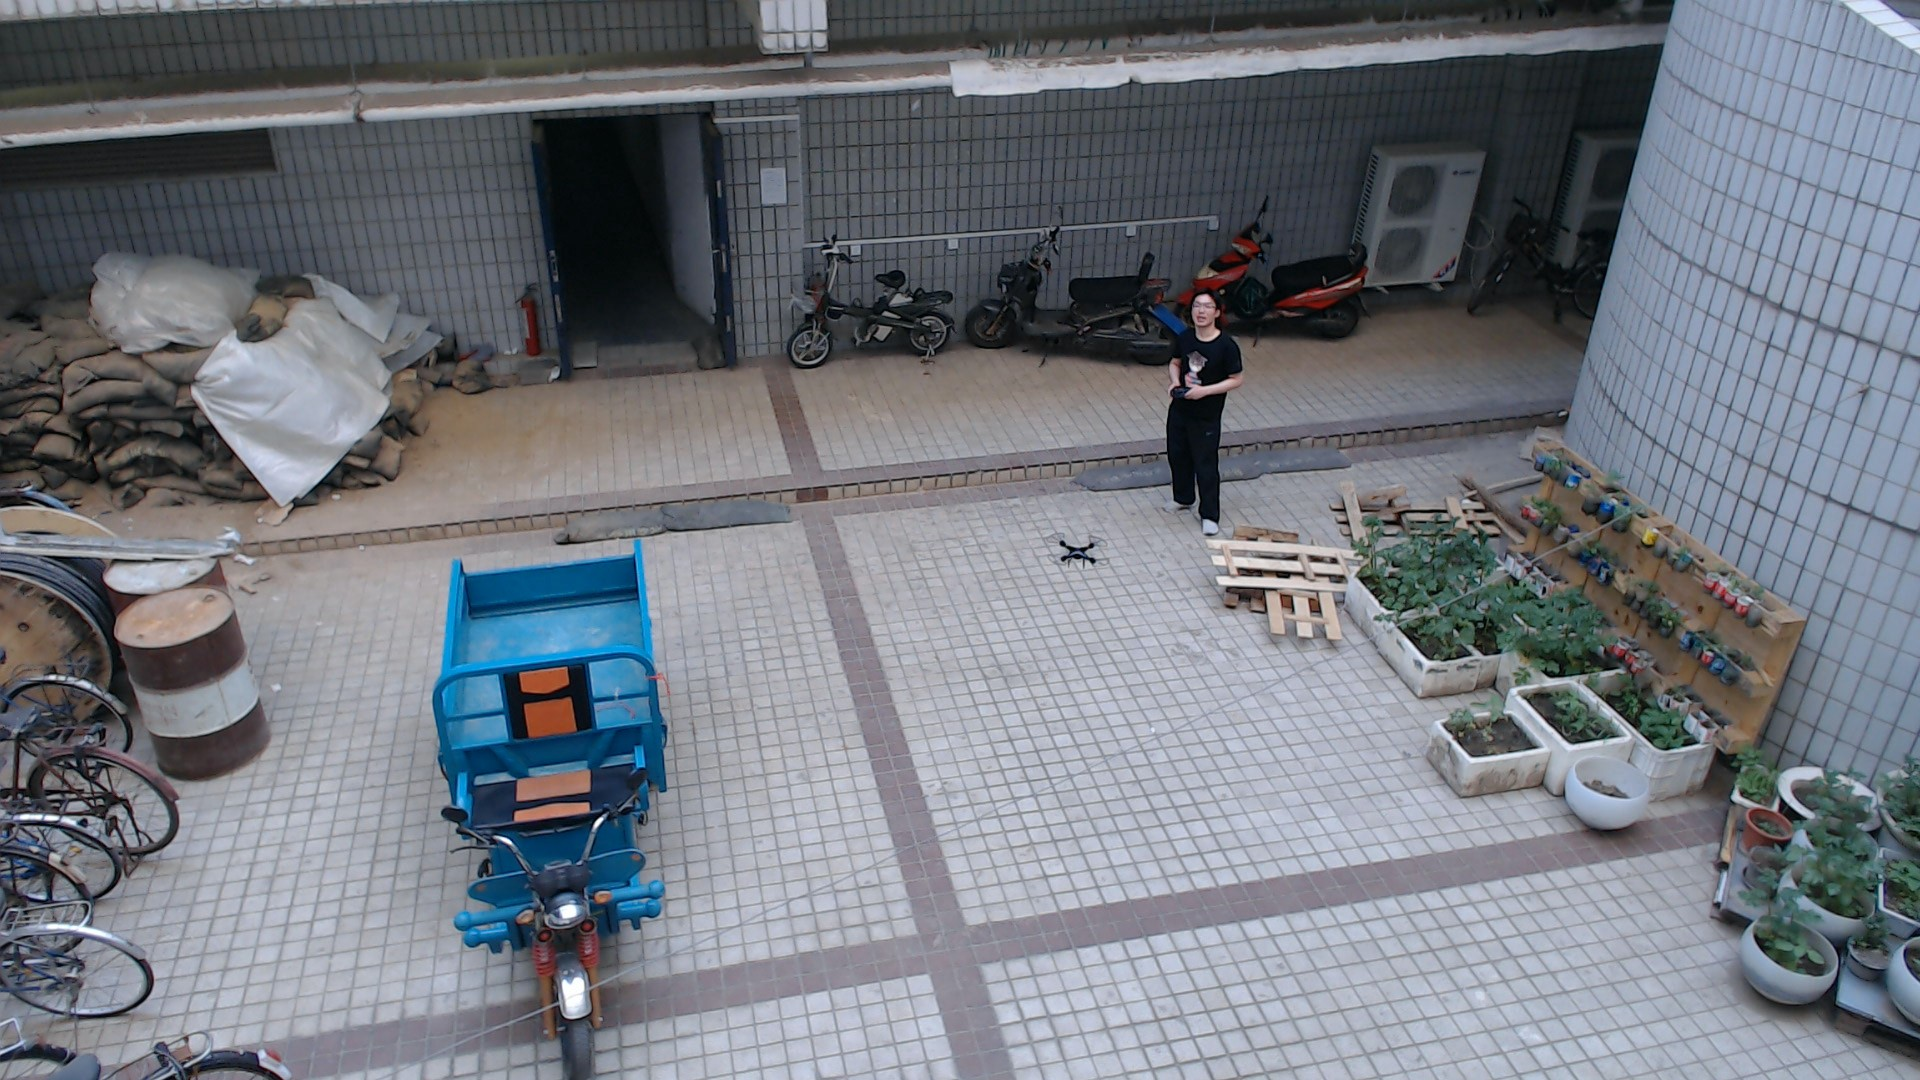drone: (1041, 523, 1116, 584)
person: (1154, 281, 1244, 536)
